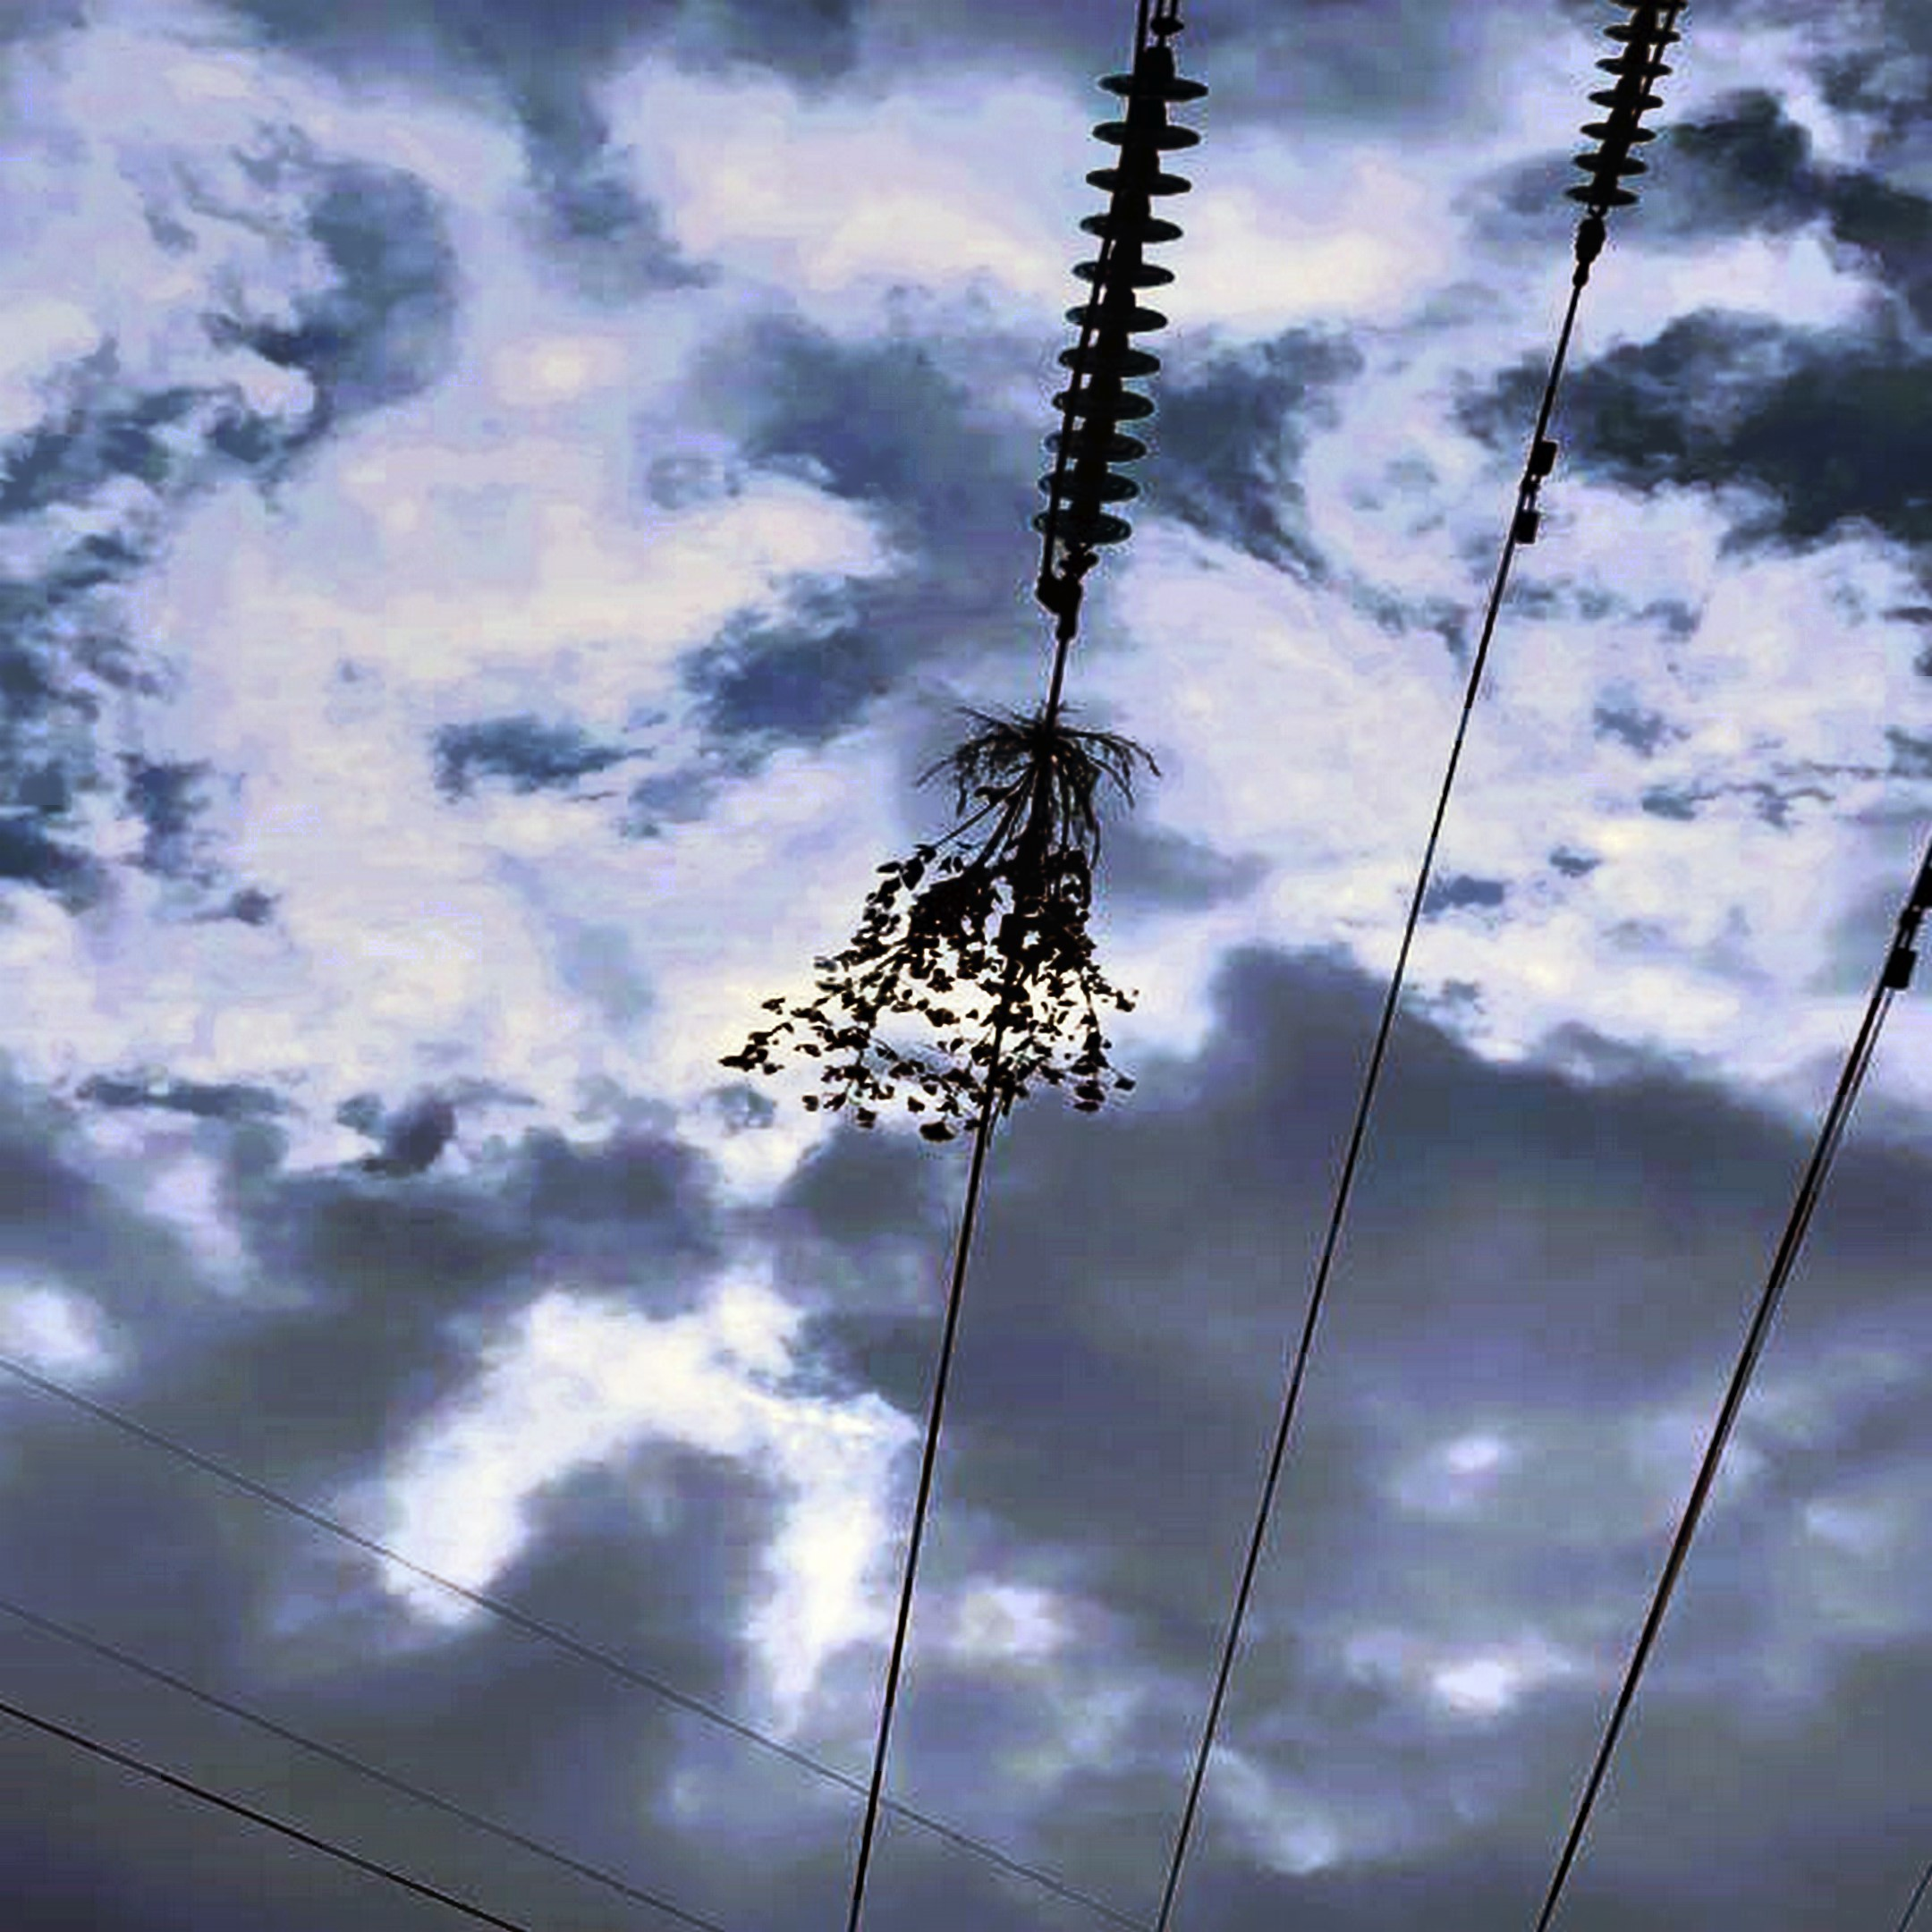wire foreign body: (701, 695, 1192, 1154)
